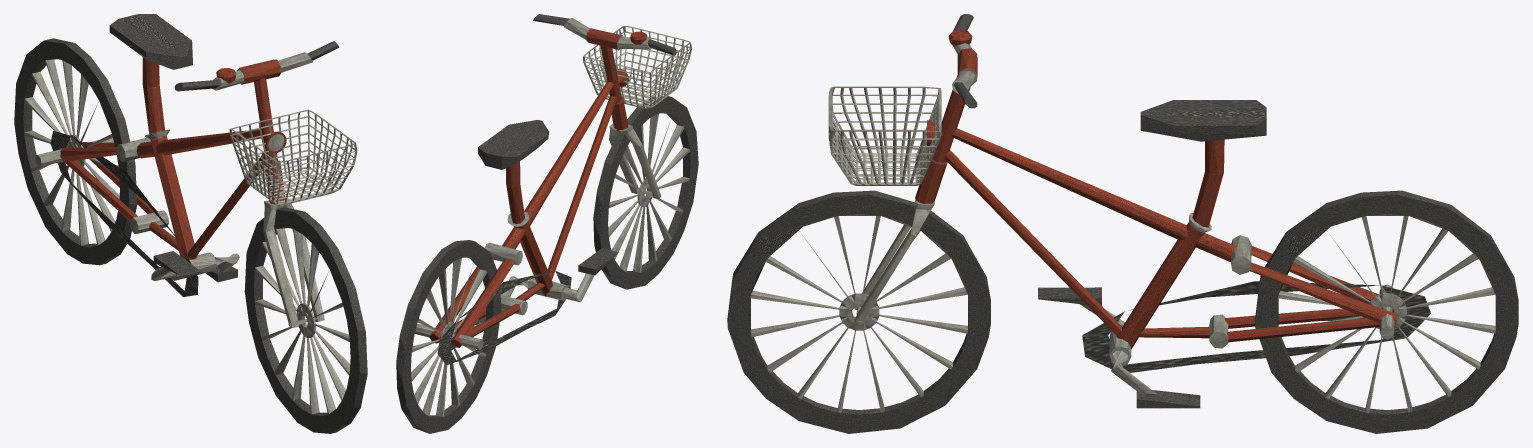
File: Bicycle.fbx
The picture shows the model from 3 angles, left to right: view 1: azimuth 30°, elevation 25°; view 2: azimuth 150°, elevation 25°; view 3: azimuth 270°, elevation 25°; orthographic projection. The views are drawn at different scales.
Visible parts, largest first — view 1: Bar, FrontWheel, BackWheel, FontBar, Pedals; view 2: Bar, FrontWheel, BackWheel, FontBar, Pedals; view 3: Bar, FrontWheel, BackWheel, FontBar, Pedals.
Part boxes in pixels (x1,y1,x2,y2): Bar: (35,14,265,296); FrontWheel: (244,207,367,433); BackWheel: (14,38,137,265); FontBar: (174,41,357,327); Pedals: (151,251,239,282); Bar: (415,81,617,365); FrontWheel: (593,96,698,289); BackWheel: (396,240,501,433); FontBar: (533,14,691,198); Pedals: (475,248,618,324); Bar: (945,100,1430,372); FrontWheel: (727,190,990,433); BackWheel: (1255,190,1518,433); FontBar: (828,14,977,325); Pedals: (1038,287,1200,408).
Size of the model in its own units: 164 by 316 by 600.
